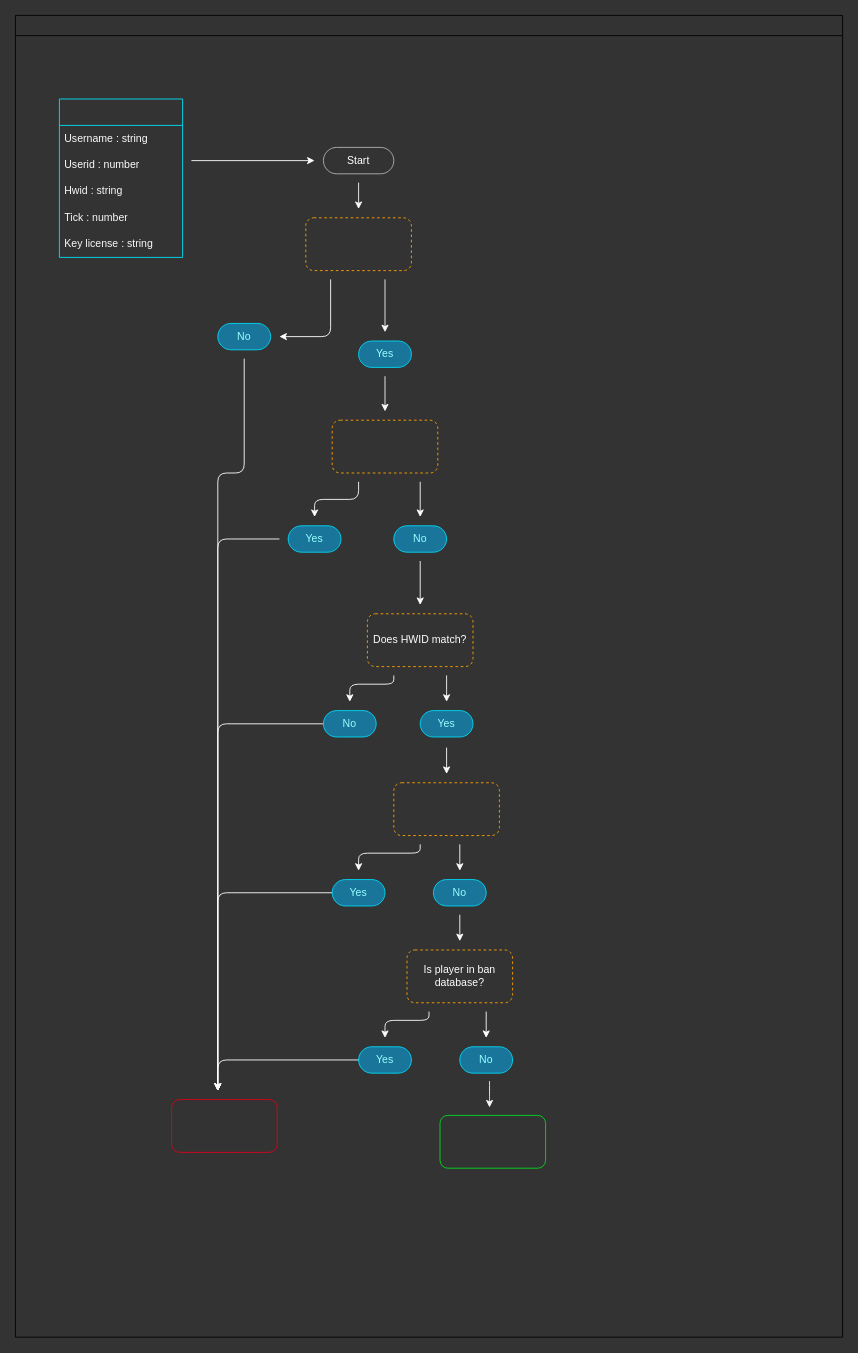
Some shapes in this 858 by 1353 pixel diagram are drawn without their labels. The shapes that lost their labels are listed below. From the top down, each one's box as (x1, y1, x2, y2) in pixels, then its label:
(59, 98, 183, 257): Packet (case)
(305, 217, 411, 271): Does key exist?
(331, 419, 438, 473): Is key expired?
(393, 782, 499, 836): Is HWID banned?
(171, 1099, 277, 1152): Return false
(439, 1115, 546, 1168): Return true
